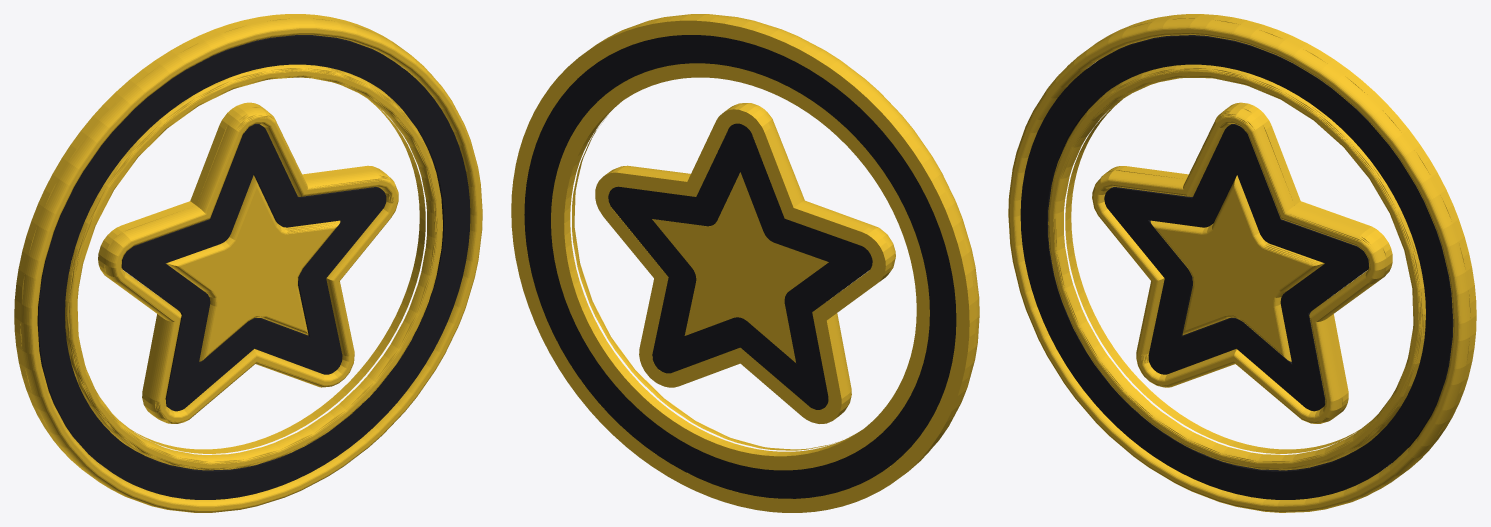
File: perfect_cycles_t8.glb
3 views of the same model, side by side, from view 1: azimuth 30°, elevation 25°; view 2: azimuth 150°, elevation 25°; view 3: azimuth 330°, elevation 25° (orthographic).
Parts seen in each view (by area): view 1: mark, mark_channel; view 2: mark, mark_channel; view 3: mark, mark_channel.
Part boxes in pixels (box(x1,y1,x2,y2)): mark: box(14, 14, 482, 512); mark_channel: box(37, 35, 470, 499); mark: box(511, 14, 979, 512); mark_channel: box(524, 35, 956, 498); mark: box(1008, 14, 1476, 512); mark_channel: box(1020, 35, 1453, 499).
Size of the model in its own units: 0.468 by 0.468 by 0.024.
